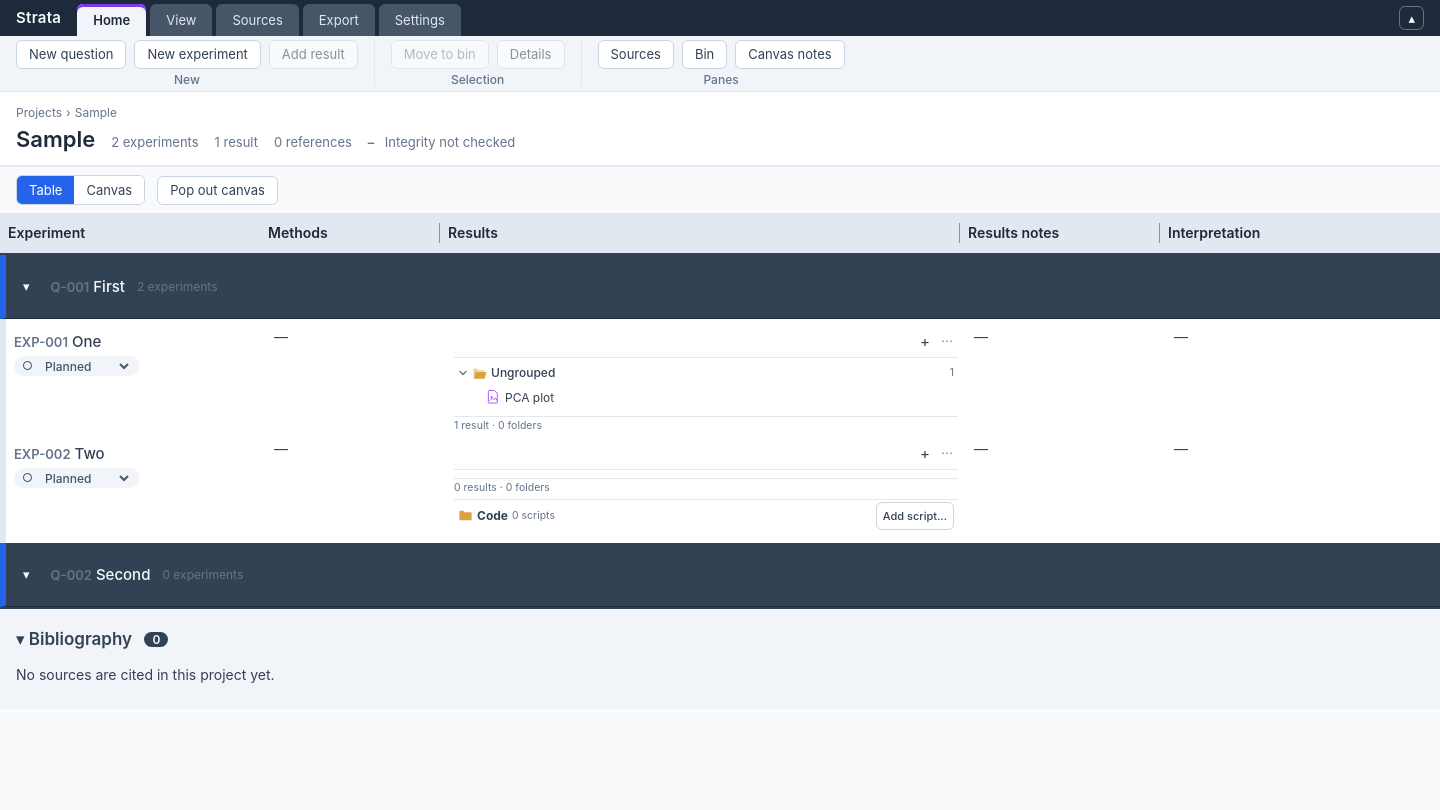
it: adding files in the Results cell (FR-EVD-01, FR-EVD-02) › links a file above the threshold and never copies it
Click the 1st button "+".
click(925, 341)  # box [916,327,934,355]
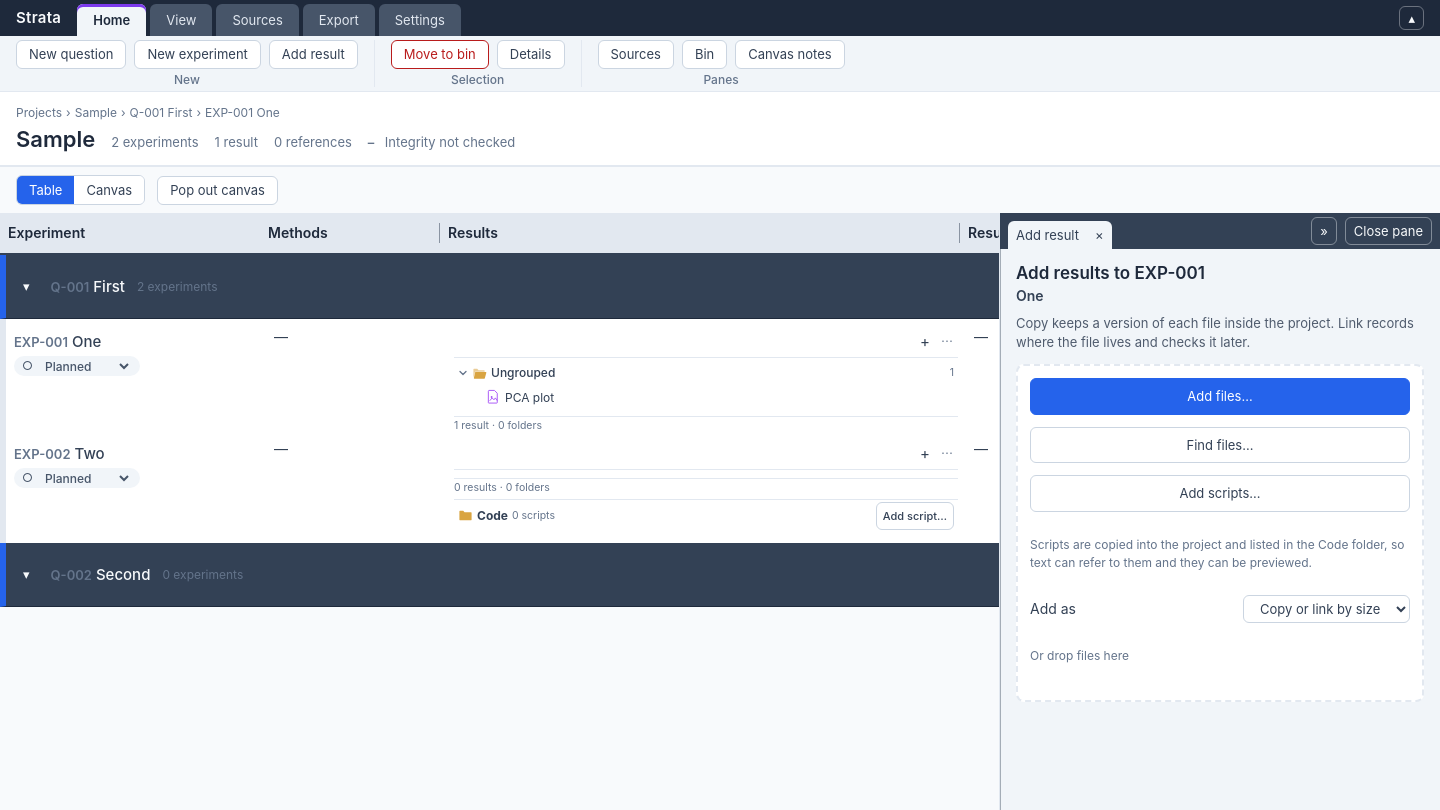
Click the button "Add files…".
click(1220, 396)  # box [1030,378,1410,415]
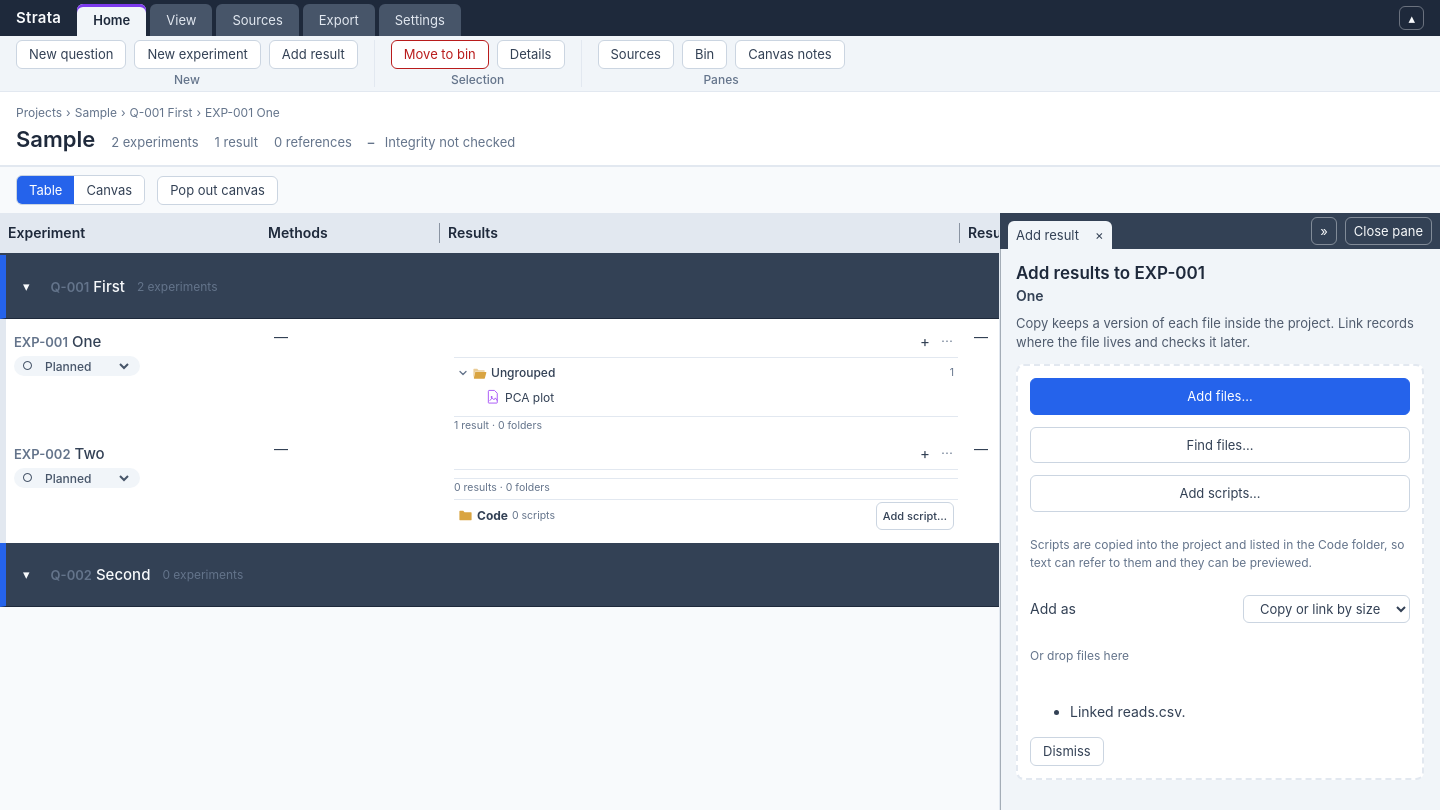
Expected: the message "Linked reads.csv. Dismiss" is shown, [1030,704,1186,766]
